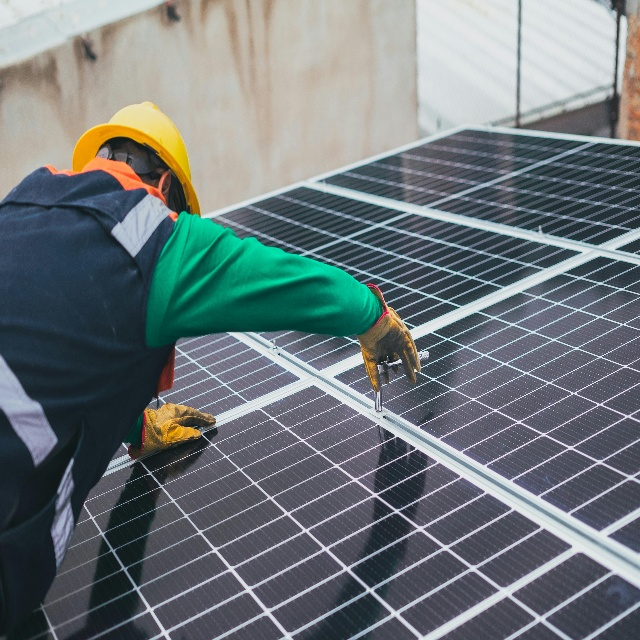Guantes: (358, 285, 422, 391), (134, 403, 216, 456)
